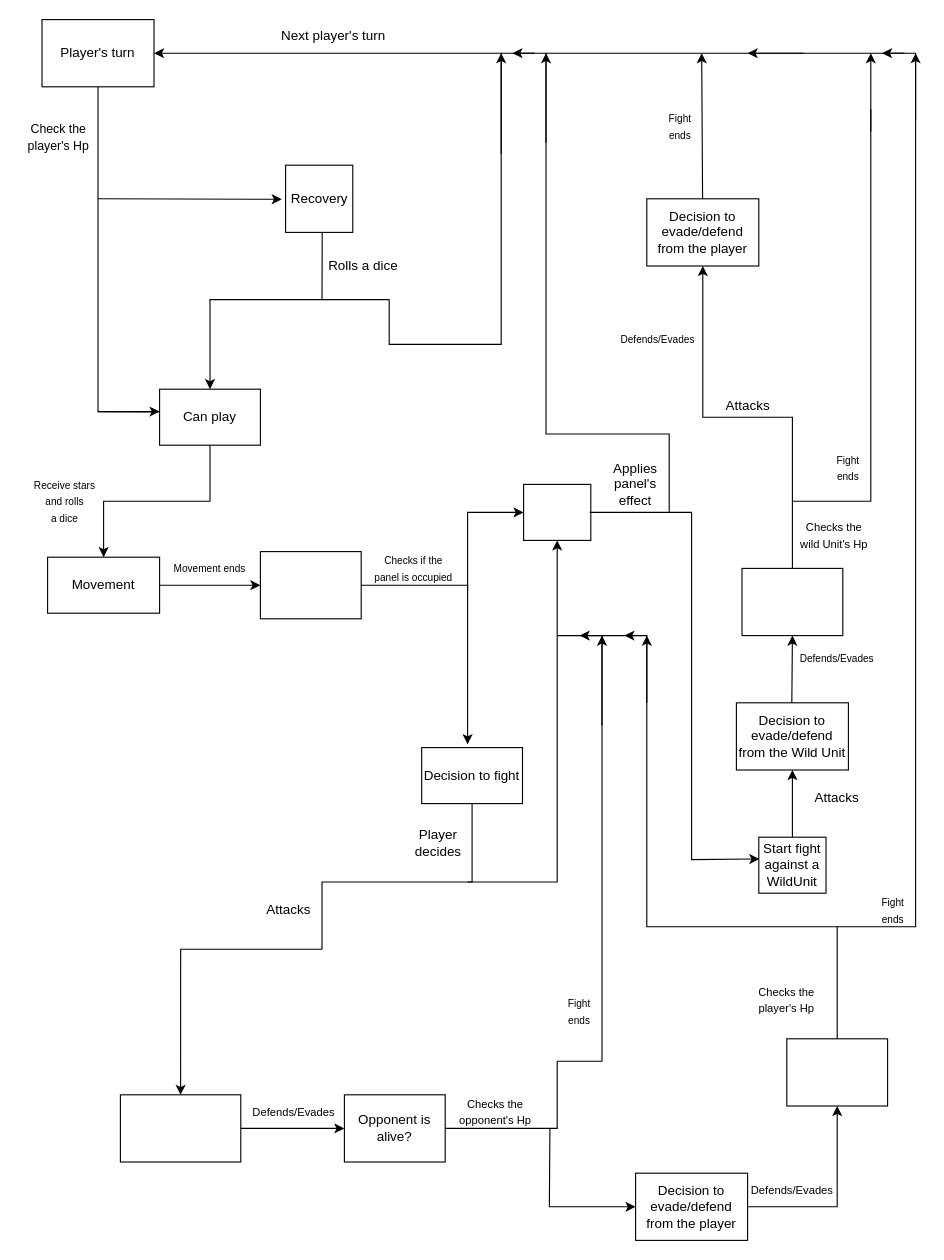
This 944x1260 diagram has some shape labels left out. The shapes that lost their labels are listed below. From the top down, each one's centre as x and y in pixels, then its label:
(556,511): Apply Panel
(310,584): On a Panel
(792,601): Wild Unit is alive?
(837,1072): Player is alive?
(180,1128): Decision to evade/defend from the opponent
